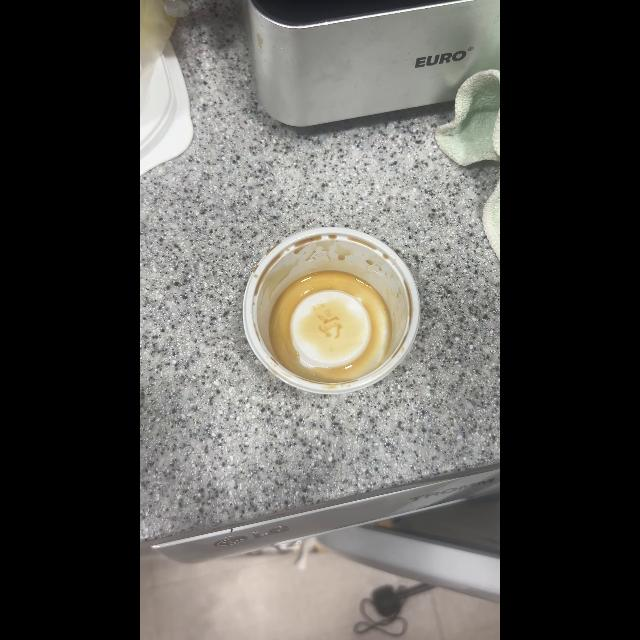dirty: (242, 228, 418, 394)
